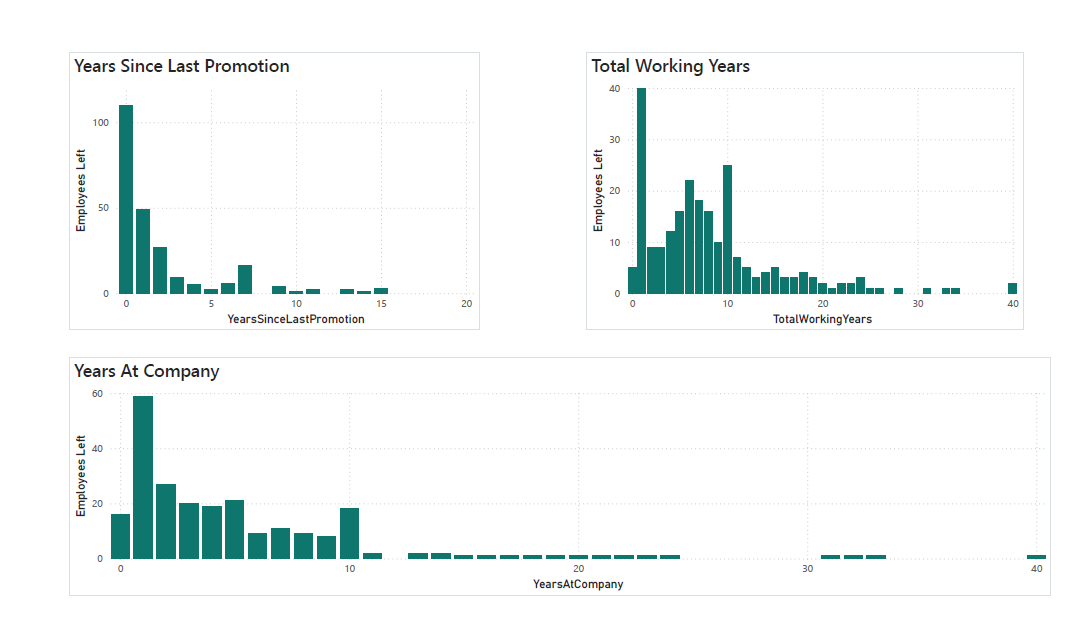

Layout of this report page (visuals, bound fields, positions):
{"tool":"powerbi","page":{"name":"Promotion Analysis","canvas":[1280,720],"ordinal":3},"visuals":[{"type":"columnChart","title":"Years Since Last Promotion","fields":{"Y":["WA_Fn-UseC_-HR-Employee-Attrition.Employees Left"],"Category":["WA_Fn-UseC_-HR-Employee-Attrition.YearsSinceLastPromotion"]},"box":[64,48,496,336],"z":0},{"type":"columnChart","title":"Years At Company","fields":{"Category":["WA_Fn-UseC_-HR-Employee-Attrition.YearsAtCompany"],"Y":["WA_Fn-UseC_-HR-Employee-Attrition.Employees Left"]},"box":[64,416,1184,288],"z":1000},{"type":"columnChart","title":"Total Working Years","fields":{"Y":["WA_Fn-UseC_-HR-Employee-Attrition.Employees Left"],"Category":["WA_Fn-UseC_-HR-Employee-Attrition.TotalWorkingYears"]},"box":[688,48,528,336],"z":2000}]}

Visuals, with their boxes in screenshot pixels (x1, y1, x2, y2), scaled from the page's 1280x720 canvas onto the 1090x625 screenshot:
"Years Since Last Promotion" columnChart: select_region(54, 42, 477, 333)
"Years At Company" columnChart: select_region(54, 361, 1063, 611)
"Total Working Years" columnChart: select_region(586, 42, 1036, 333)
